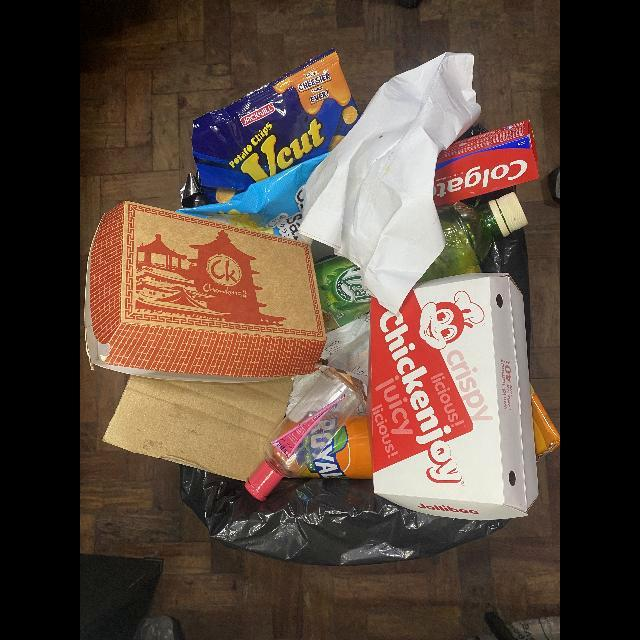aluminum: (300, 415, 373, 480)
cardboard: (84, 201, 327, 383), (369, 274, 539, 522), (102, 375, 294, 482), (433, 120, 539, 208)
food_wrapper: (180, 49, 360, 208), (176, 152, 330, 240)
paper: (298, 52, 482, 314), (286, 316, 373, 423)
plastic_bottle: (417, 192, 528, 284), (314, 255, 370, 332)
plastic_container: (244, 370, 362, 502)
